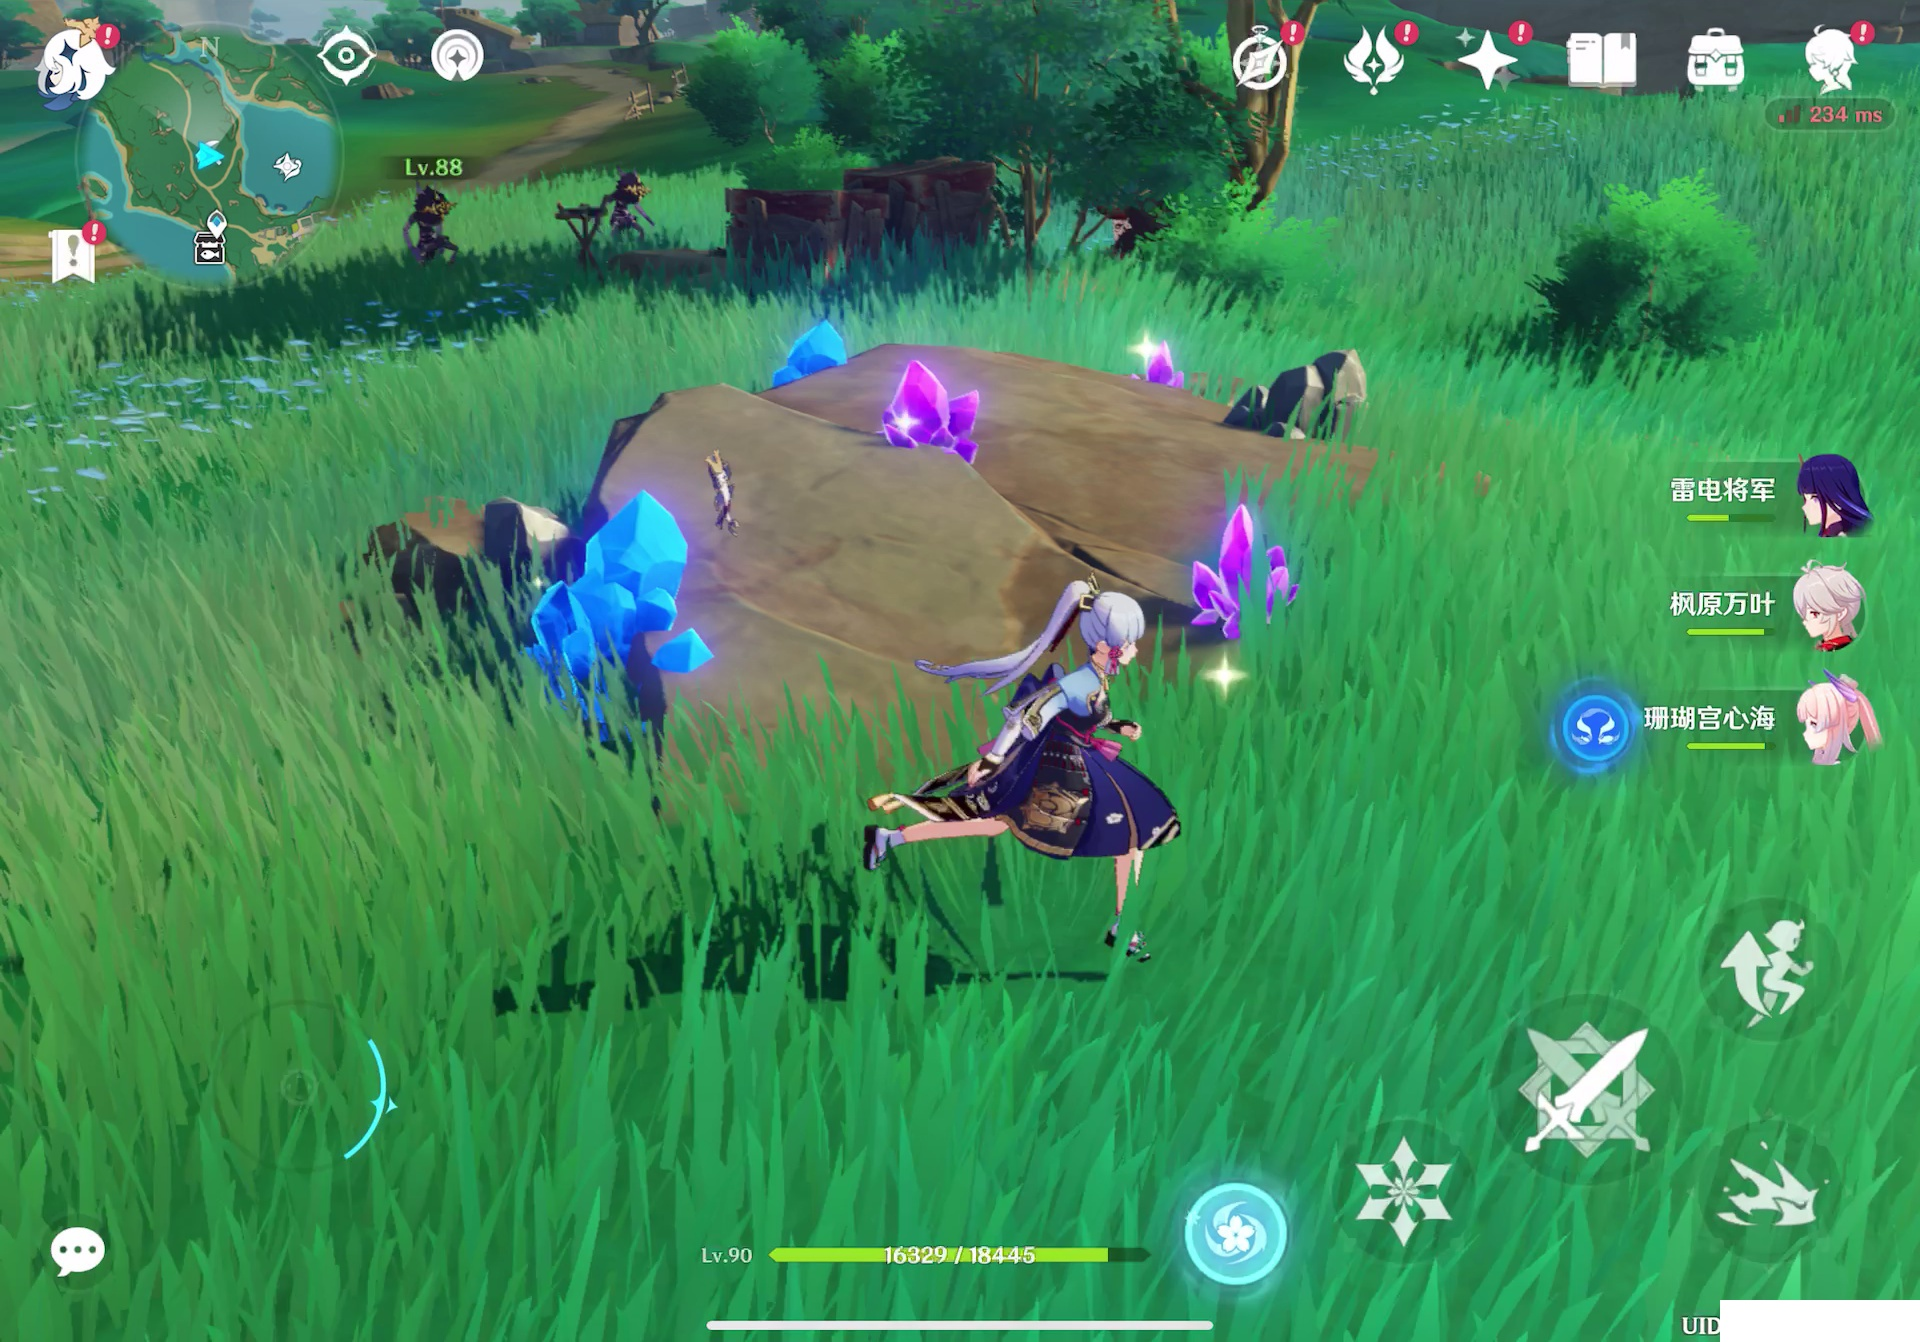丘丘人: (395, 190, 468, 276), (601, 171, 657, 249)
白铁矿石: (1226, 331, 1425, 442), (468, 489, 565, 579)
神里绫龟: (856, 572, 1169, 969)
紫矿石: (1185, 521, 1325, 636), (875, 352, 999, 477), (1132, 335, 1183, 391)
蓝矿石: (553, 490, 715, 707), (767, 321, 853, 382)
